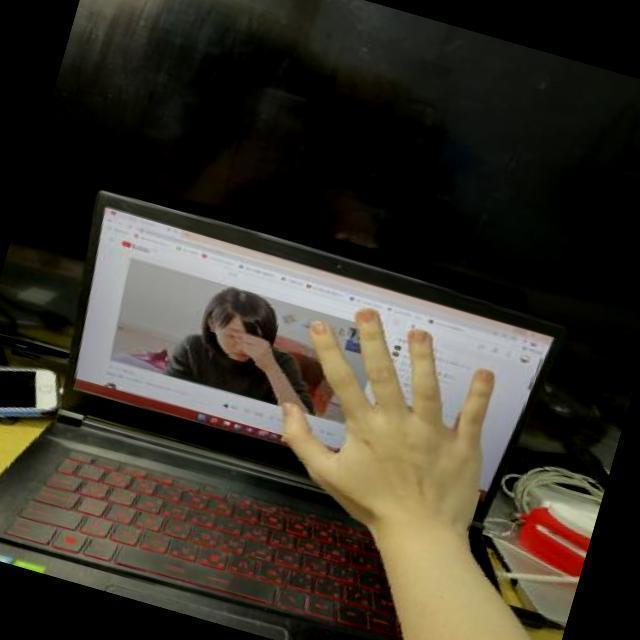hand: (240, 273, 550, 572)
